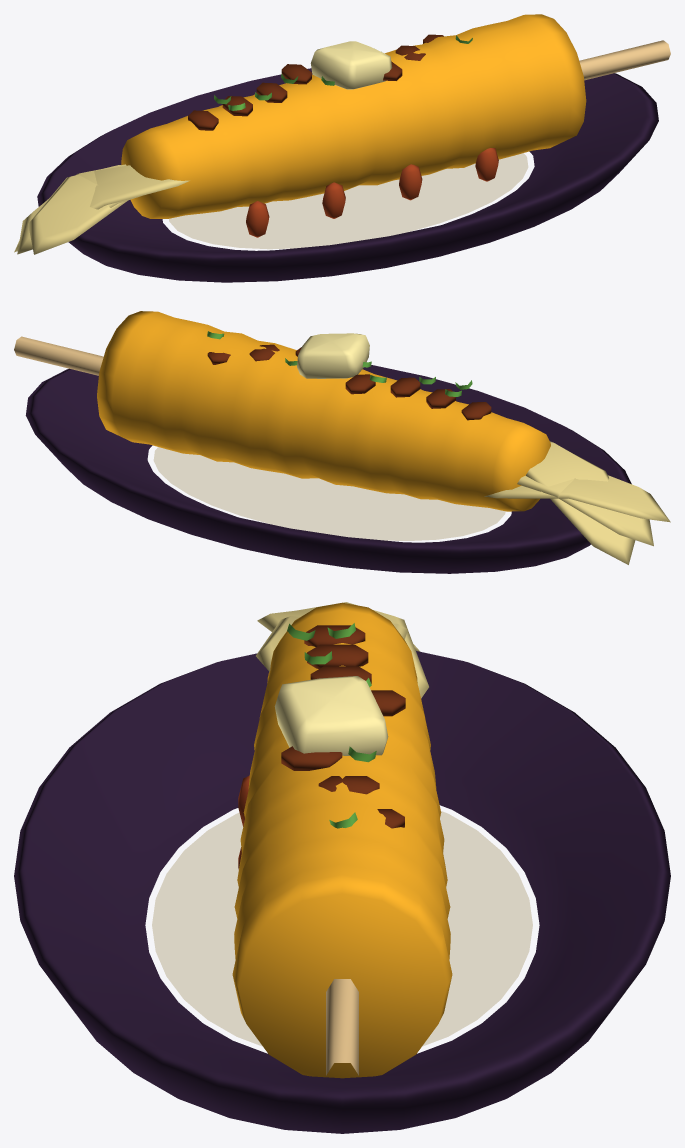
3 renders of one model, top to bottom at view 1: azimuth 30°, elevation 25°; view 2: azimuth 150°, elevation 25°; view 3: azimuth 270°, elevation 25°, orthographic. The views are drawn at different scales.
Parts seen in each view (by area): view 1: corn, plate, plate_well, husk (×3), butter, glaze_drips (×4), stick, char (×3); view 2: corn, plate, plate_well, husk (×3), butter, char (×4), stick; view 3: plate, corn, plate_well, butter, char (×4), stick, husk.
Part boxes in pixels (x1=…): corn: x1=121, y1=14, x2=586, y2=218; plate: x1=37, y1=68, x2=658, y2=282; plate_well: x1=169, y1=153, x2=528, y2=249; husk (×3): x1=14, y1=164, x2=189, y2=254; butter: x1=310, y1=41, x2=392, y2=89; glaze_drips (×4): x1=246, y1=148, x2=498, y2=237; stick: x1=579, y1=40, x2=670, y2=80; char (×3): x1=188, y1=64, x2=311, y2=130; corn: x1=97, y1=311, x2=550, y2=511; plate: x1=25, y1=365, x2=631, y2=573; plate_well: x1=153, y1=447, x2=505, y2=540; husk (×3): x1=484, y1=441, x2=670, y2=564; butter: x1=297, y1=333, x2=369, y2=378; char (×4): x1=345, y1=374, x2=491, y2=420; stick: x1=14, y1=336, x2=103, y2=375; plate: x1=14, y1=651, x2=670, y2=1133; corn: x1=232, y1=602, x2=452, y2=1078; plate_well: x1=152, y1=811, x2=532, y2=1046; butter: x1=274, y1=676, x2=388, y2=755; char (×4): x1=281, y1=625, x2=379, y2=794; stick: x1=326, y1=979, x2=358, y2=1075; husk: x1=257, y1=602, x2=428, y2=698.
Size of the model in its own units: 0.2205 by 0.0547 by 0.12.
